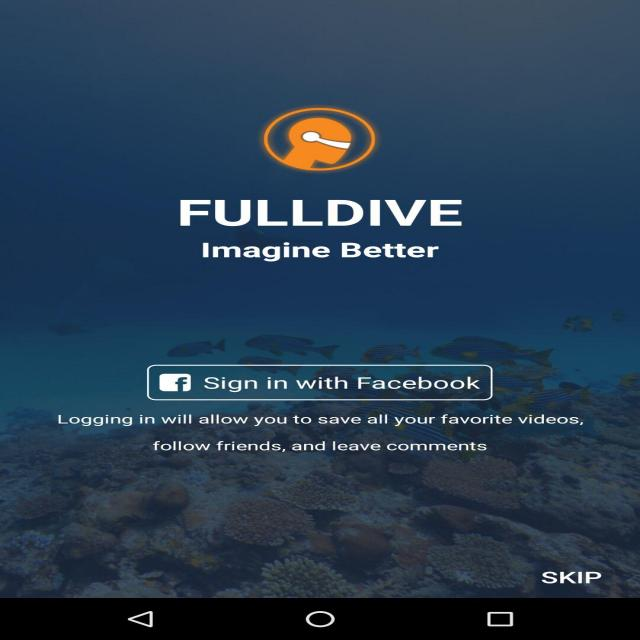button: (141, 364, 500, 404), (526, 562, 612, 594)
image: (0, 0, 640, 599), (232, 95, 404, 176)
text: (165, 190, 510, 266), (44, 411, 592, 457), (198, 371, 485, 393), (536, 568, 611, 591)
